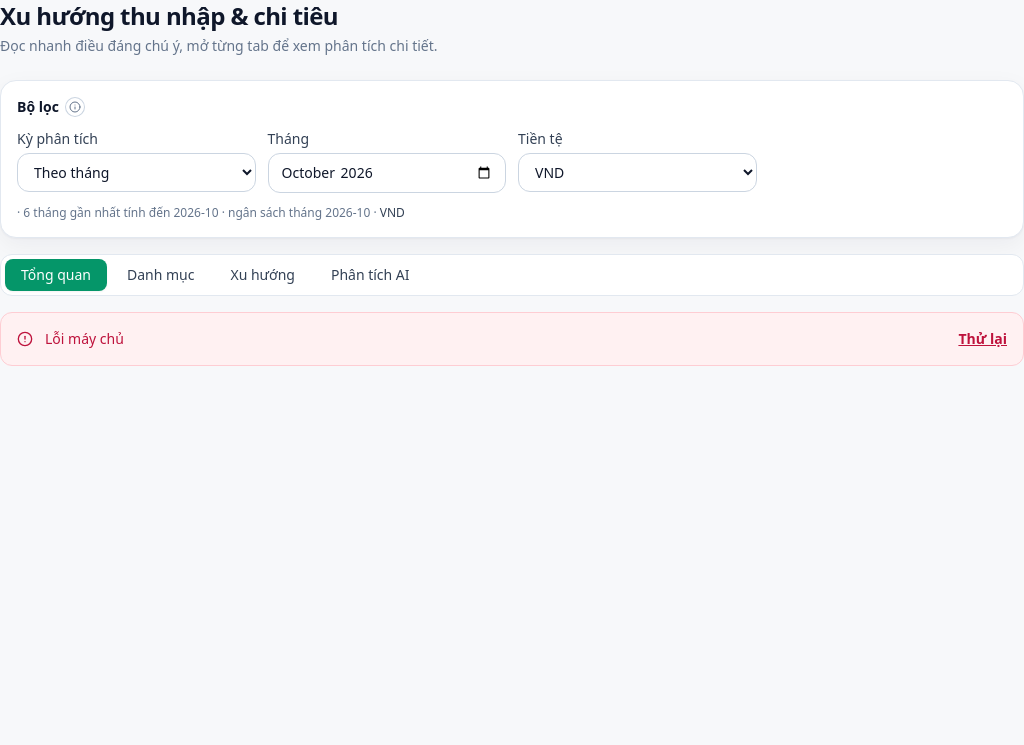
Test: AnalyticsPage — loading and errors › shows the API error and recovers after retrying
The width and height of the screenshot is (1024, 745).
Expected: the text "Lỗi máy chủ" is shown, [45,329,124,348]
Click the button "Thử lại": (983, 339) [958,329,1007,349]
(page scrolled)
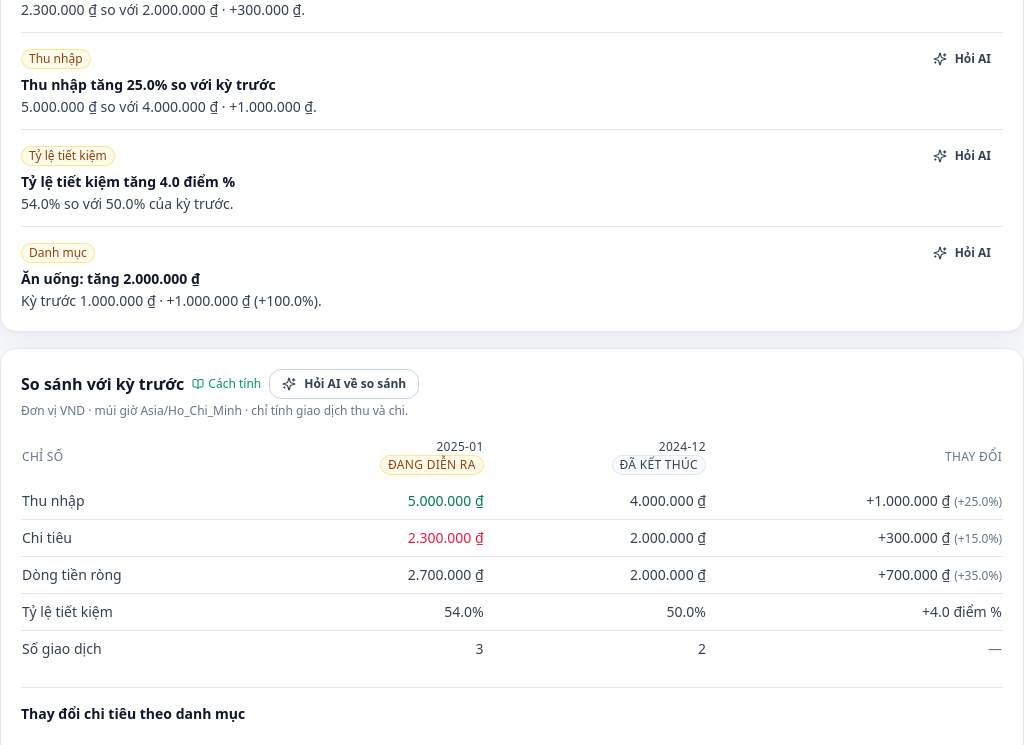
Expected: the heading "So sánh với kỳ trước" is shown, [21,372,184,396]
